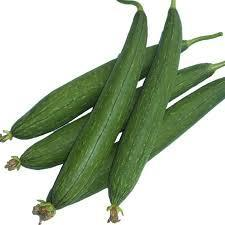sponge gourd: (105, 0, 224, 223), (31, 0, 148, 221), (0, 56, 117, 143), (4, 106, 93, 171)
